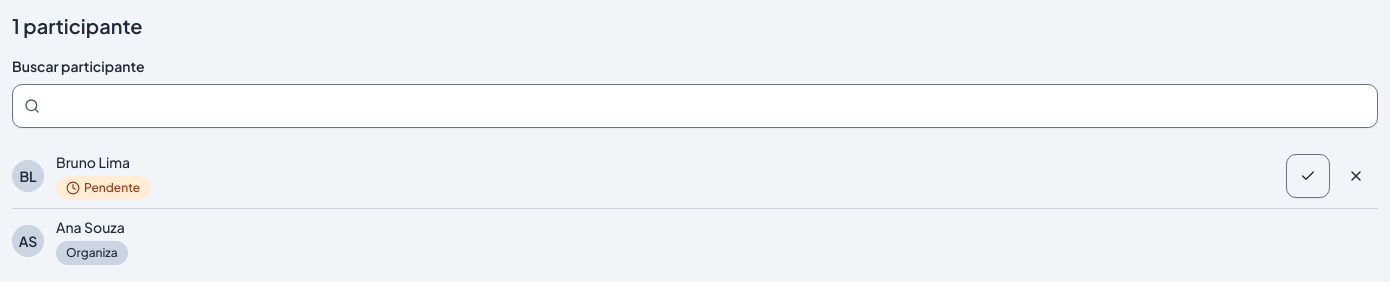
Test: MemberActions › Recusar chama a API sem confirmação e recarrega a lista
Click the button named "Recusar Bruno Lima" at [1356, 176], box [1334,154,1378,198]
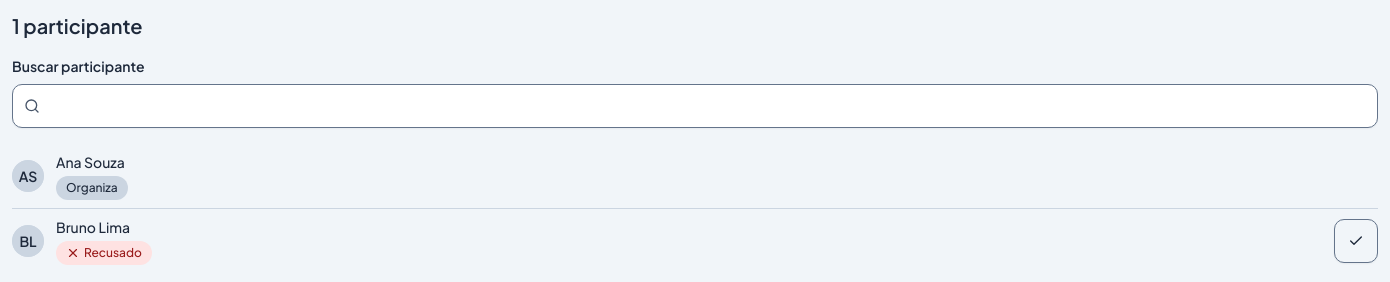
Check: the text "Recusado" is shown, box [56,241,152,265]
